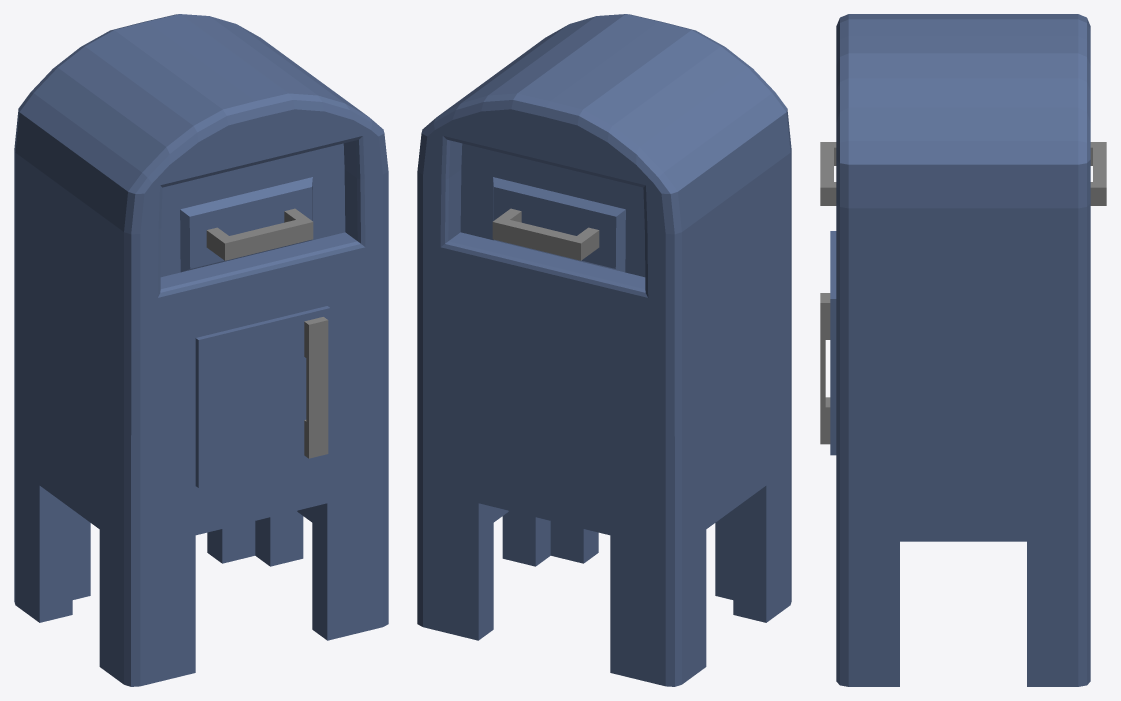
The model's file is post_box.fbx.
The picture shows the model from 3 angles, left to right: view 1: azimuth 30°, elevation 25°; view 2: azimuth 150°, elevation 25°; view 3: azimuth 270°, elevation 25°; orthographic projection. The views are drawn at different scales.
Visible parts, largest first — view 1: Cube; view 2: Cube; view 3: Cube.
Part boxes in pixels (<box>): Cube: <box>14,14,388,686</box>; Cube: <box>417,14,791,686</box>; Cube: <box>820,14,1106,686</box>.
Bounding box in the file's own units: 200 × 400 × 178.
